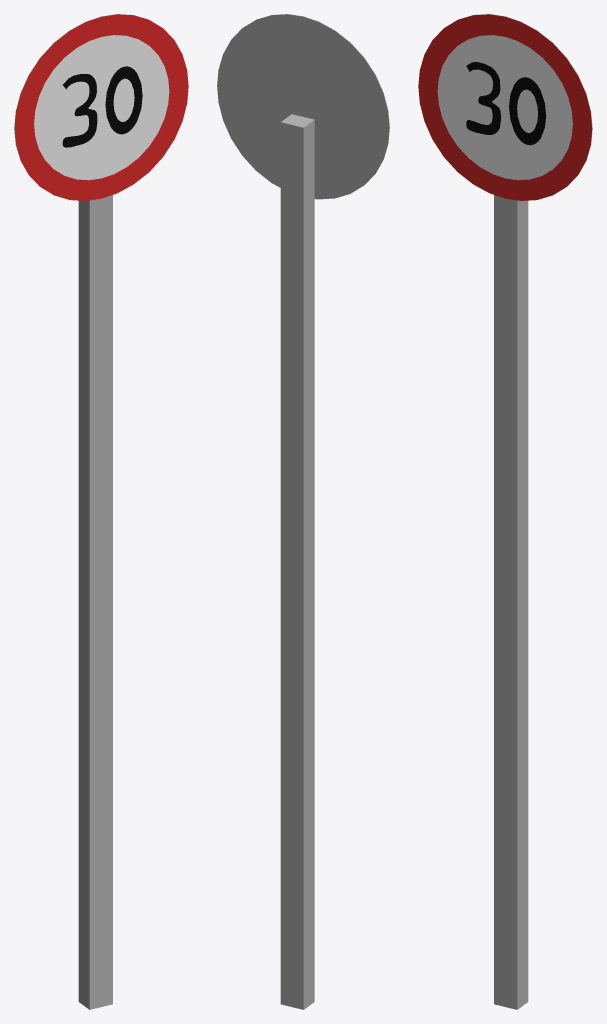
The picture shows the model from 3 angles, left to right: view 1: azimuth 30°, elevation 25°; view 2: azimuth 150°, elevation 25°; view 3: azimuth 330°, elevation 25°; orthographic projection.
Parts seen in each view (by area): view 1: FBXASC0510; view 2: FBXASC0510; view 3: FBXASC0510.
Part boxes in pixels (<box>): FBXASC0510: <box>14,14,188,1009</box>; FBXASC0510: <box>217,14,389,1009</box>; FBXASC0510: <box>418,14,592,1009</box>.
Size of the model in its own units: 17.72 by 96.46 by 2.05.
